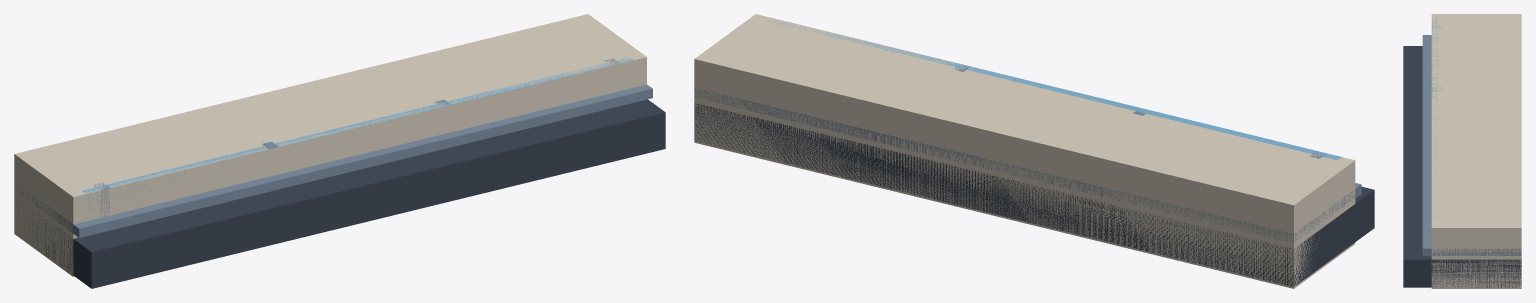
The model's file is cittaNuovaTetto.glb.
3 renders of one model, left to right at view 1: azimuth 30°, elevation 25°; view 2: azimuth 150°, elevation 25°; view 3: azimuth 270°, elevation 25°, orthographic. The views are drawn at different scales.
Visible parts, largest first — view 1: cittaNuovaTetto_concrete, cittaNuovaTetto_steelDark, cittaNuovaTetto_steel, cittaNuovaTetto_glass; view 2: cittaNuovaTetto_concrete, cittaNuovaTetto_steelDark, cittaNuovaTetto_steel, cittaNuovaTetto_glass; view 3: cittaNuovaTetto_concrete, cittaNuovaTetto_steelDark, cittaNuovaTetto_steel, cittaNuovaTetto_glass.
Boxes of the visible parts, left/top/right/bottom form: cittaNuovaTetto_concrete: left=14, top=14, right=646, bottom=276; cittaNuovaTetto_steelDark: left=21, top=99, right=665, bottom=288; cittaNuovaTetto_steel: left=16, top=58, right=652, bottom=237; cittaNuovaTetto_glass: left=82, top=57, right=632, bottom=218; cittaNuovaTetto_concrete: left=694, top=14, right=1355, bottom=288; cittaNuovaTetto_steelDark: left=694, top=103, right=1374, bottom=286; cittaNuovaTetto_steel: left=694, top=22, right=1361, bottom=243; cittaNuovaTetto_glass: left=765, top=19, right=1341, bottom=160; cittaNuovaTetto_concrete: left=1431, top=14, right=1521, bottom=288; cittaNuovaTetto_steelDark: left=1403, top=46, right=1521, bottom=287; cittaNuovaTetto_steel: left=1422, top=26, right=1521, bottom=255; cittaNuovaTetto_glass: left=1431, top=18, right=1438, bottom=169.
Bounding box in the file's own units: 9 × 1.2 × 2.1.
